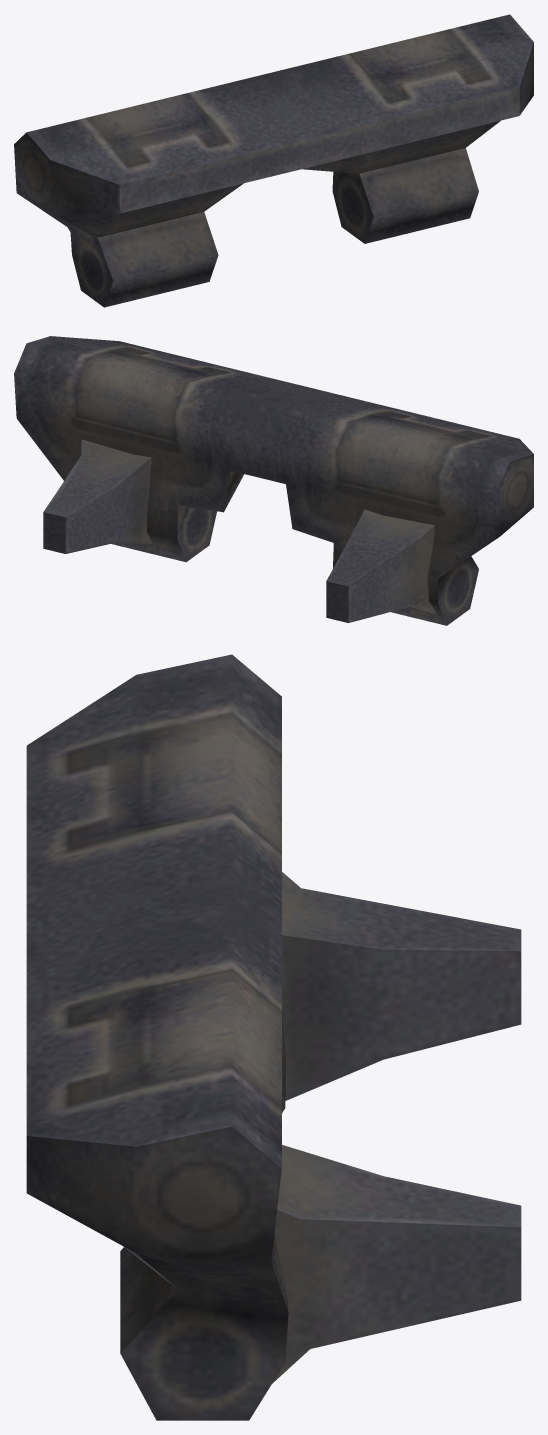
The picture shows the model from 3 angles, top to bottom: view 1: azimuth 30°, elevation 25°; view 2: azimuth 150°, elevation 25°; view 3: azimuth 270°, elevation 25°; orthographic projection. The views are drawn at different scales.
Visible parts, largest first — view 1: set_0_group_0; view 2: set_0_group_0; view 3: set_0_group_0.
Part boxes in pixels (x1,y1,x2,y2): set_0_group_0: (14,14,533,307); set_0_group_0: (14,336,533,625); set_0_group_0: (26,654,521,1420).
Bounding box in the file's own units: 0.1828 × 0.0635 × 0.0809.
1 material, 1 textured.
